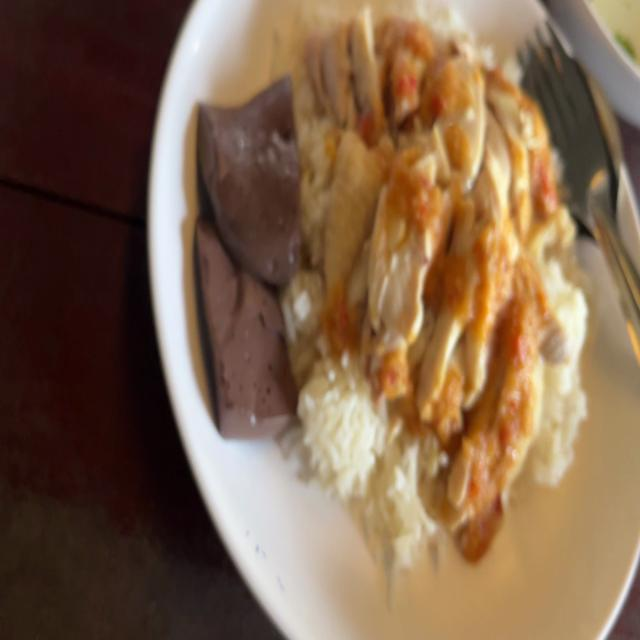chicken_rice: (302, 4, 552, 466)
noodle: (189, 202, 296, 428), (196, 85, 300, 278)
